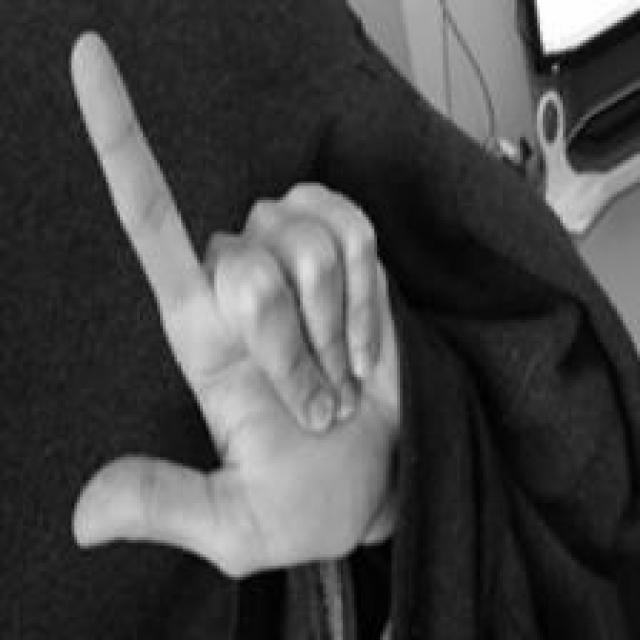L: (59, 16, 418, 584)
